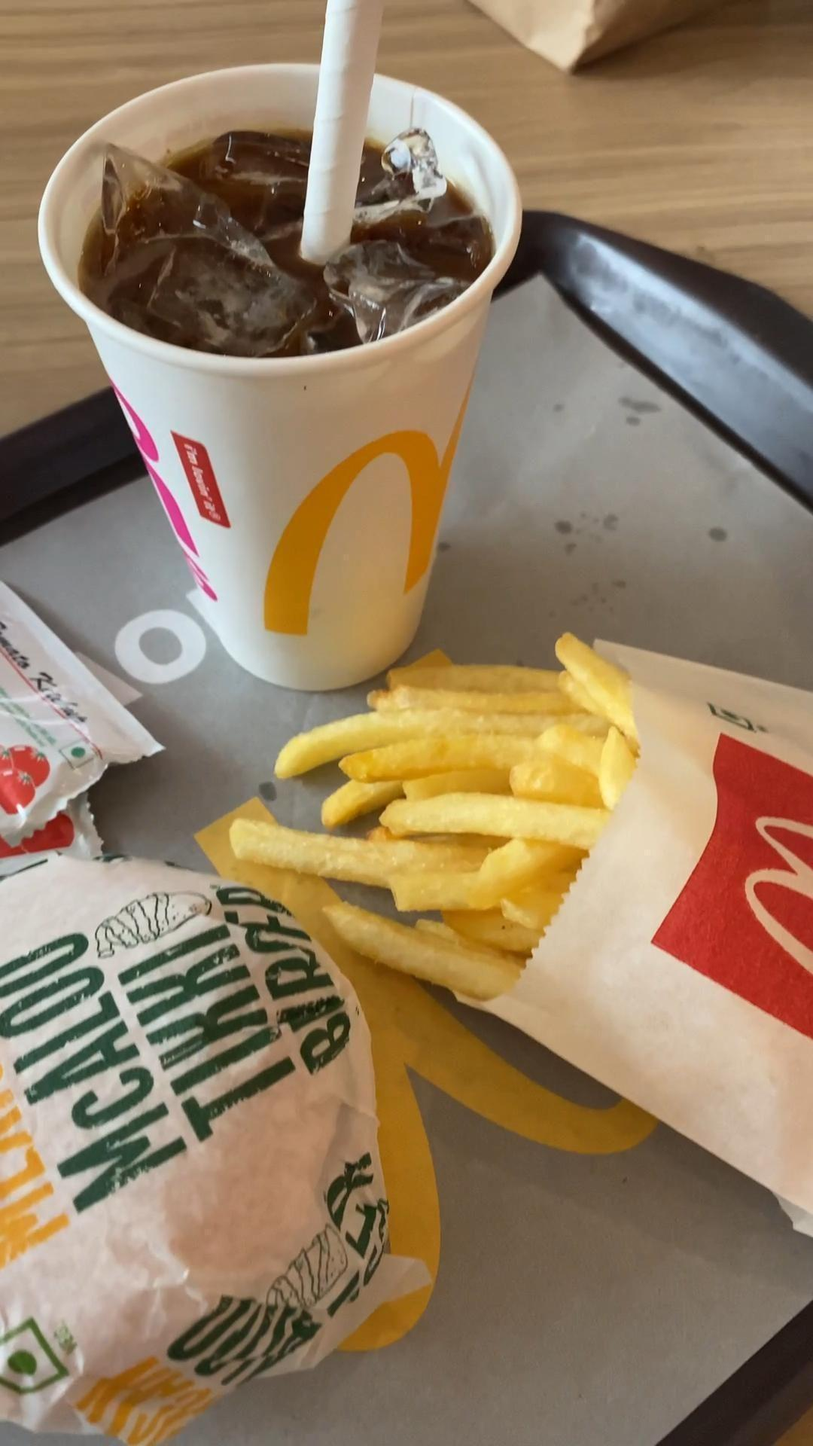cup-disposable: (34, 60, 525, 693)
